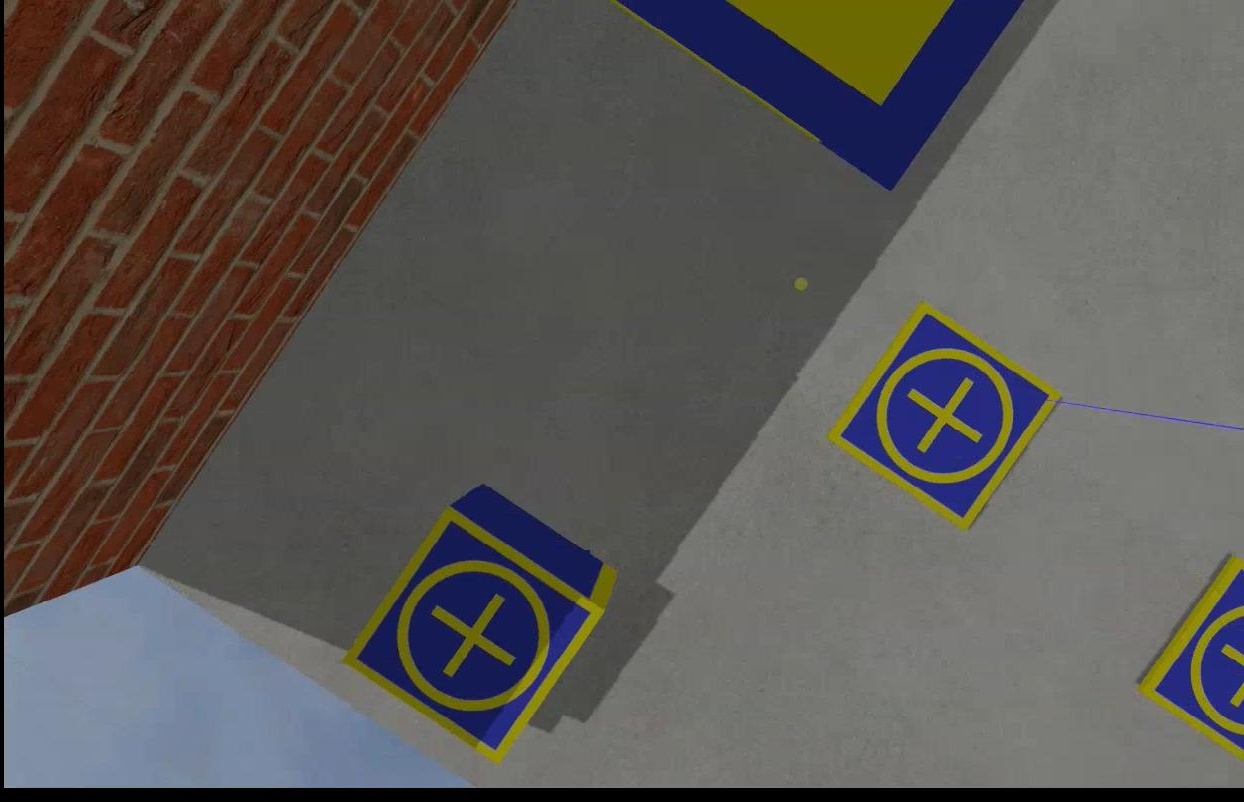large_base: (588, 1, 1025, 183)
small_base: (340, 503, 600, 761), (828, 301, 1059, 535), (1129, 546, 1242, 761)
